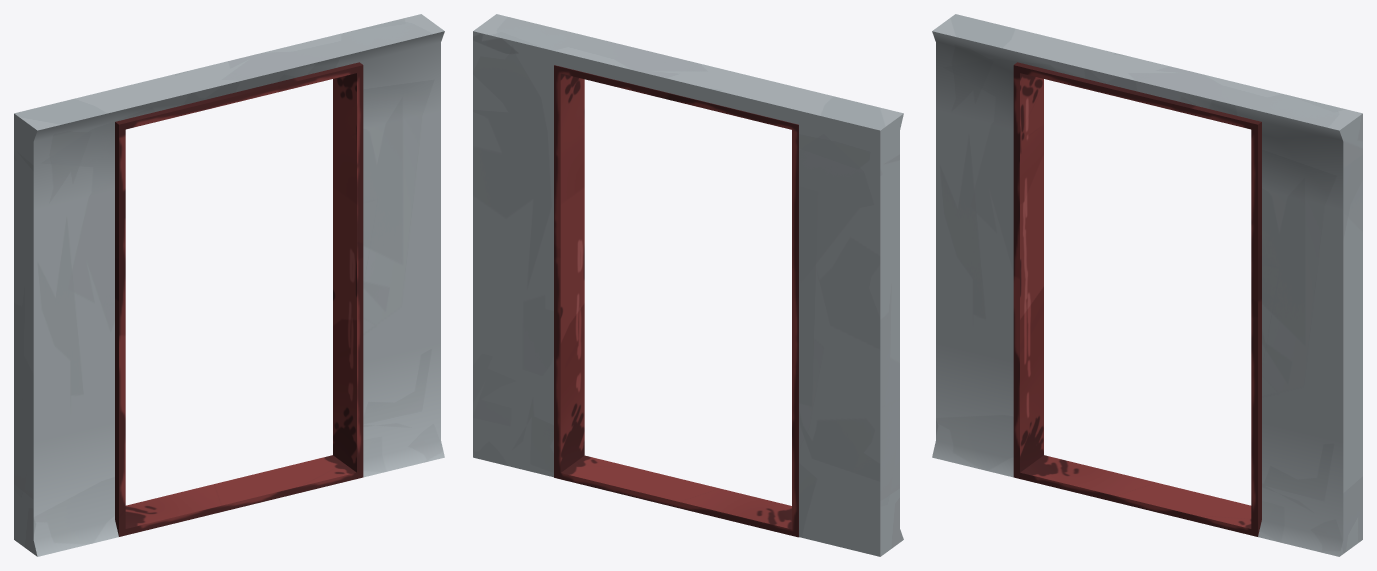
The model's file is Wall_Door_1.glb.
3 renders of one model, left to right at view 1: azimuth 30°, elevation 25°; view 2: azimuth 150°, elevation 25°; view 3: azimuth 330°, elevation 25°, orthographic.
Parts seen in each view (by area): view 1: Wall_4, Door_Frame_1; view 2: Wall_4, Door_Frame_1; view 3: Wall_4, Door_Frame_1.
Boxes of the visible parts, box(x1,y1,x2,y2) form: Wall_4: box(14, 14, 444, 556); Door_Frame_1: box(115, 62, 363, 536); Wall_4: box(473, 14, 903, 556); Door_Frame_1: box(554, 65, 798, 537); Wall_4: box(932, 14, 1362, 556); Door_Frame_1: box(1013, 62, 1261, 536).
Size of the model in its own units: 2 by 2 by 0.2039.
2 materials, 2 textured.
